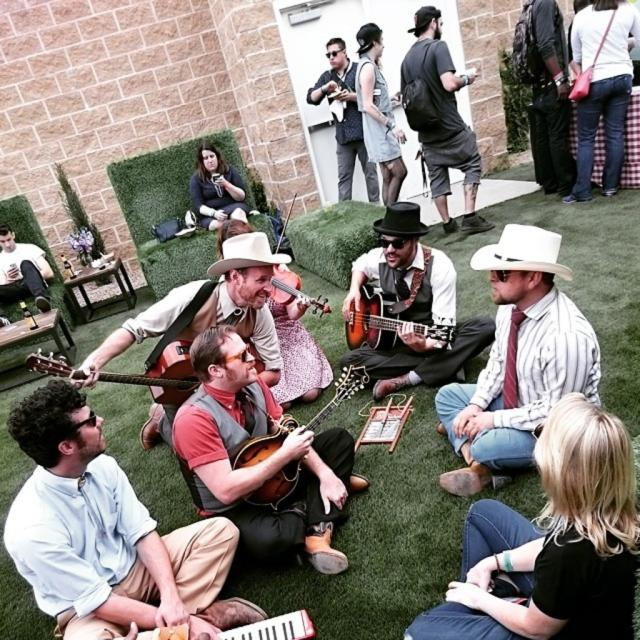Hat: (468, 220, 572, 284), (207, 228, 291, 280), (372, 198, 432, 241), (406, 0, 440, 34)
